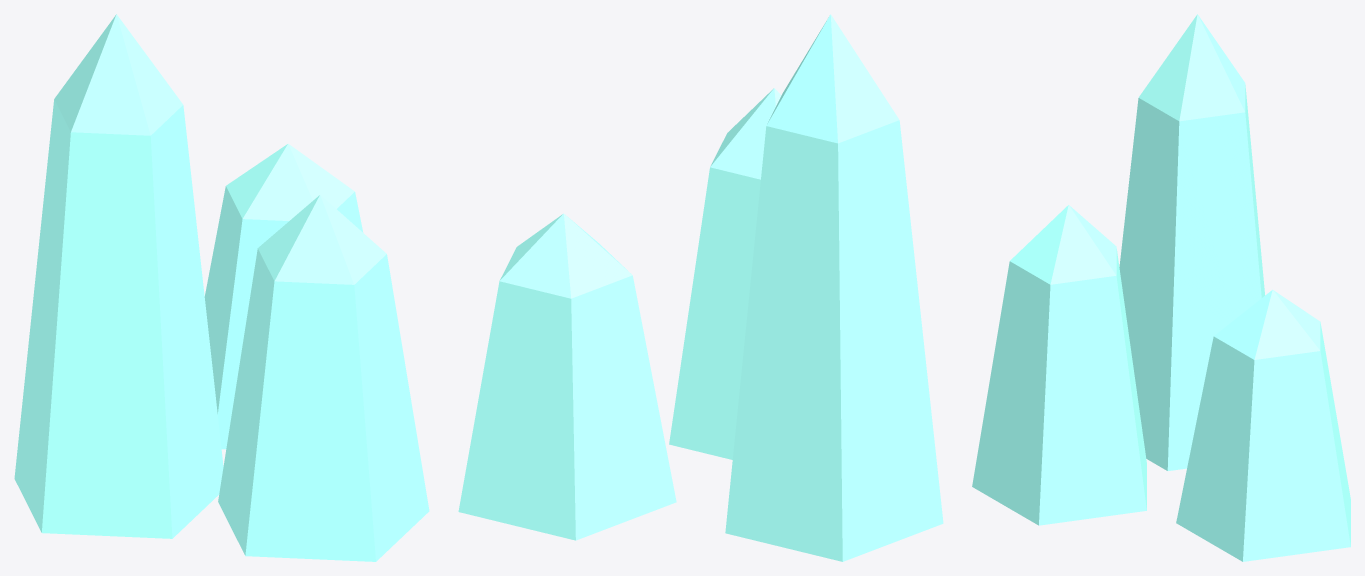
Rendered from enfeite_cristal.fbx.
3 renders of one model, left to right at view 1: azimuth 30°, elevation 25°; view 2: azimuth 150°, elevation 25°; view 3: azimuth 270°, elevation 25°, orthographic. The views are drawn at different scales.
Parts seen in each view (by area): view 1: neve_enfeite_cristal; view 2: neve_enfeite_cristal; view 3: neve_enfeite_cristal.
Part boxes in pixels (x1=…): neve_enfeite_cristal: x1=14, y1=14, x2=429, y2=561; neve_enfeite_cristal: x1=458, y1=14, x2=943, y2=561; neve_enfeite_cristal: x1=972, y1=14, x2=1350, y2=561.
Size of the model in its own units: 37.12 by 43 by 35.28.
